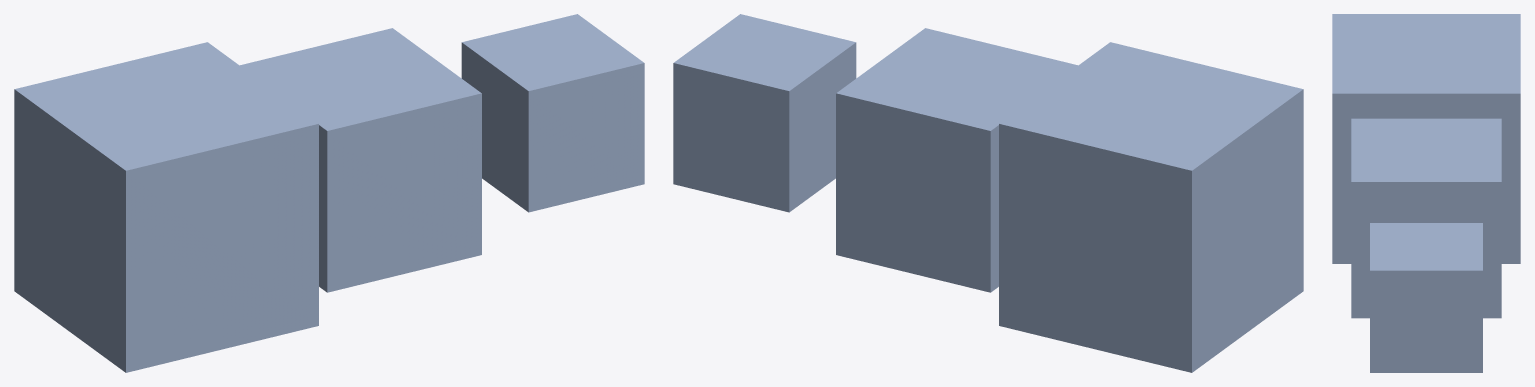
File: preview.glb
3 renders of one model, left to right at view 1: azimuth 30°, elevation 25°; view 2: azimuth 150°, elevation 25°; view 3: azimuth 270°, elevation 25°, orthographic. The views are drawn at different scales.
Visible parts, largest first — view 1: uploaded_asset; view 2: uploaded_asset; view 3: uploaded_asset.
Part boxes in pixels (x1=…): uploaded_asset: x1=14, y1=14, x2=644, y2=372; uploaded_asset: x1=673, y1=14, x2=1303, y2=372; uploaded_asset: x1=1332, y1=14, x2=1520, y2=372.
Bounding box in the file's own units: 2.6 × 0.9286 × 0.9286.
